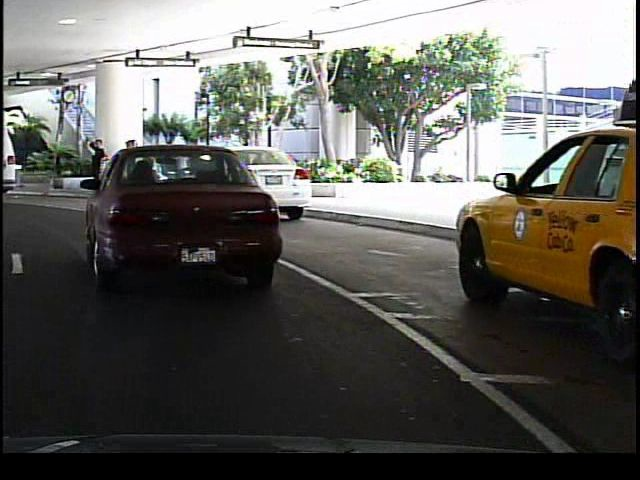person: (118, 139, 144, 197), (81, 137, 105, 194), (165, 143, 192, 193)
